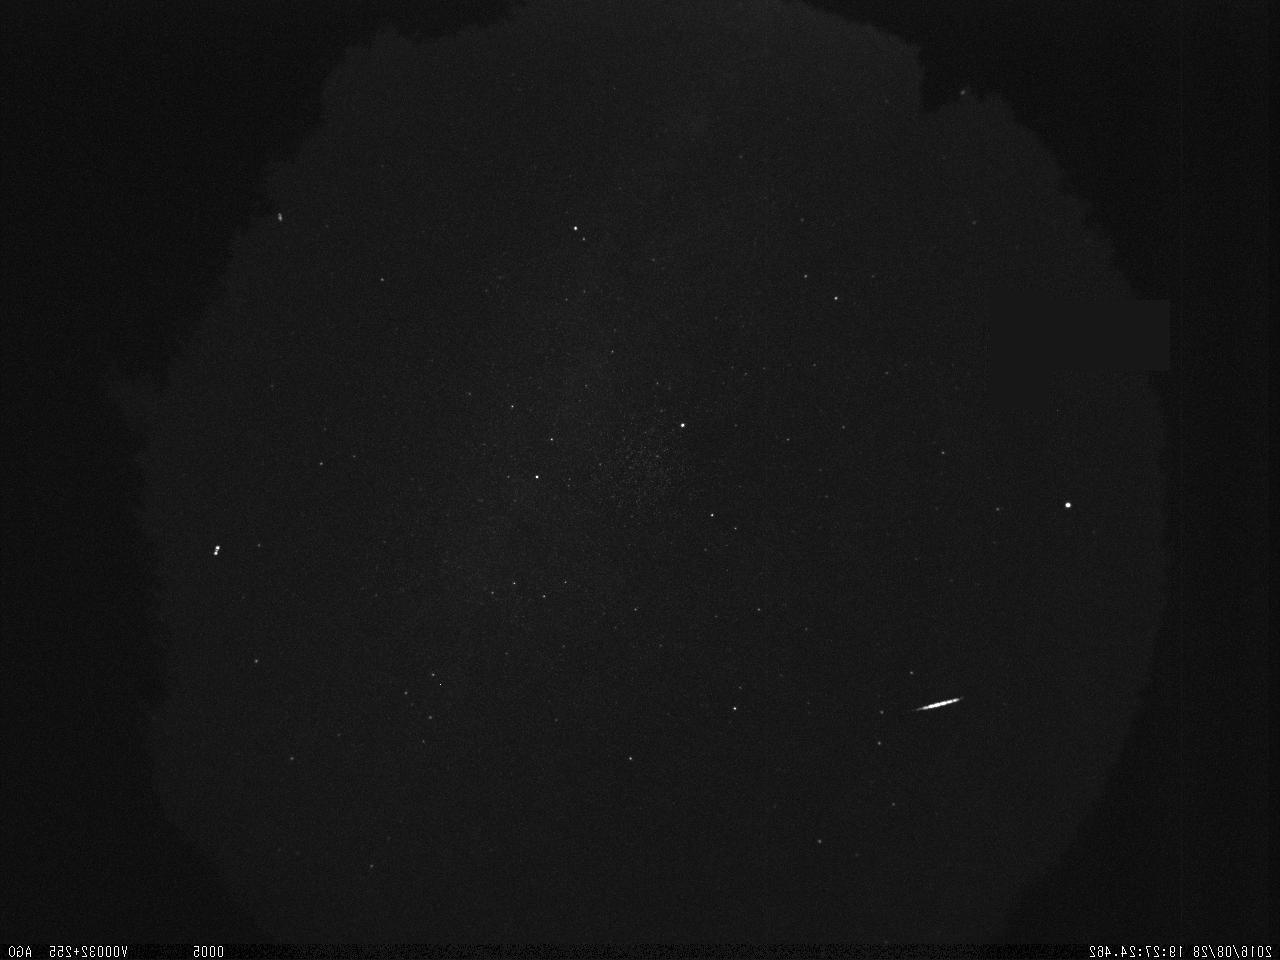meteor: (907, 684, 975, 733)
